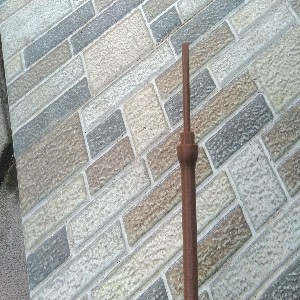obeng: (176, 42, 199, 300)
